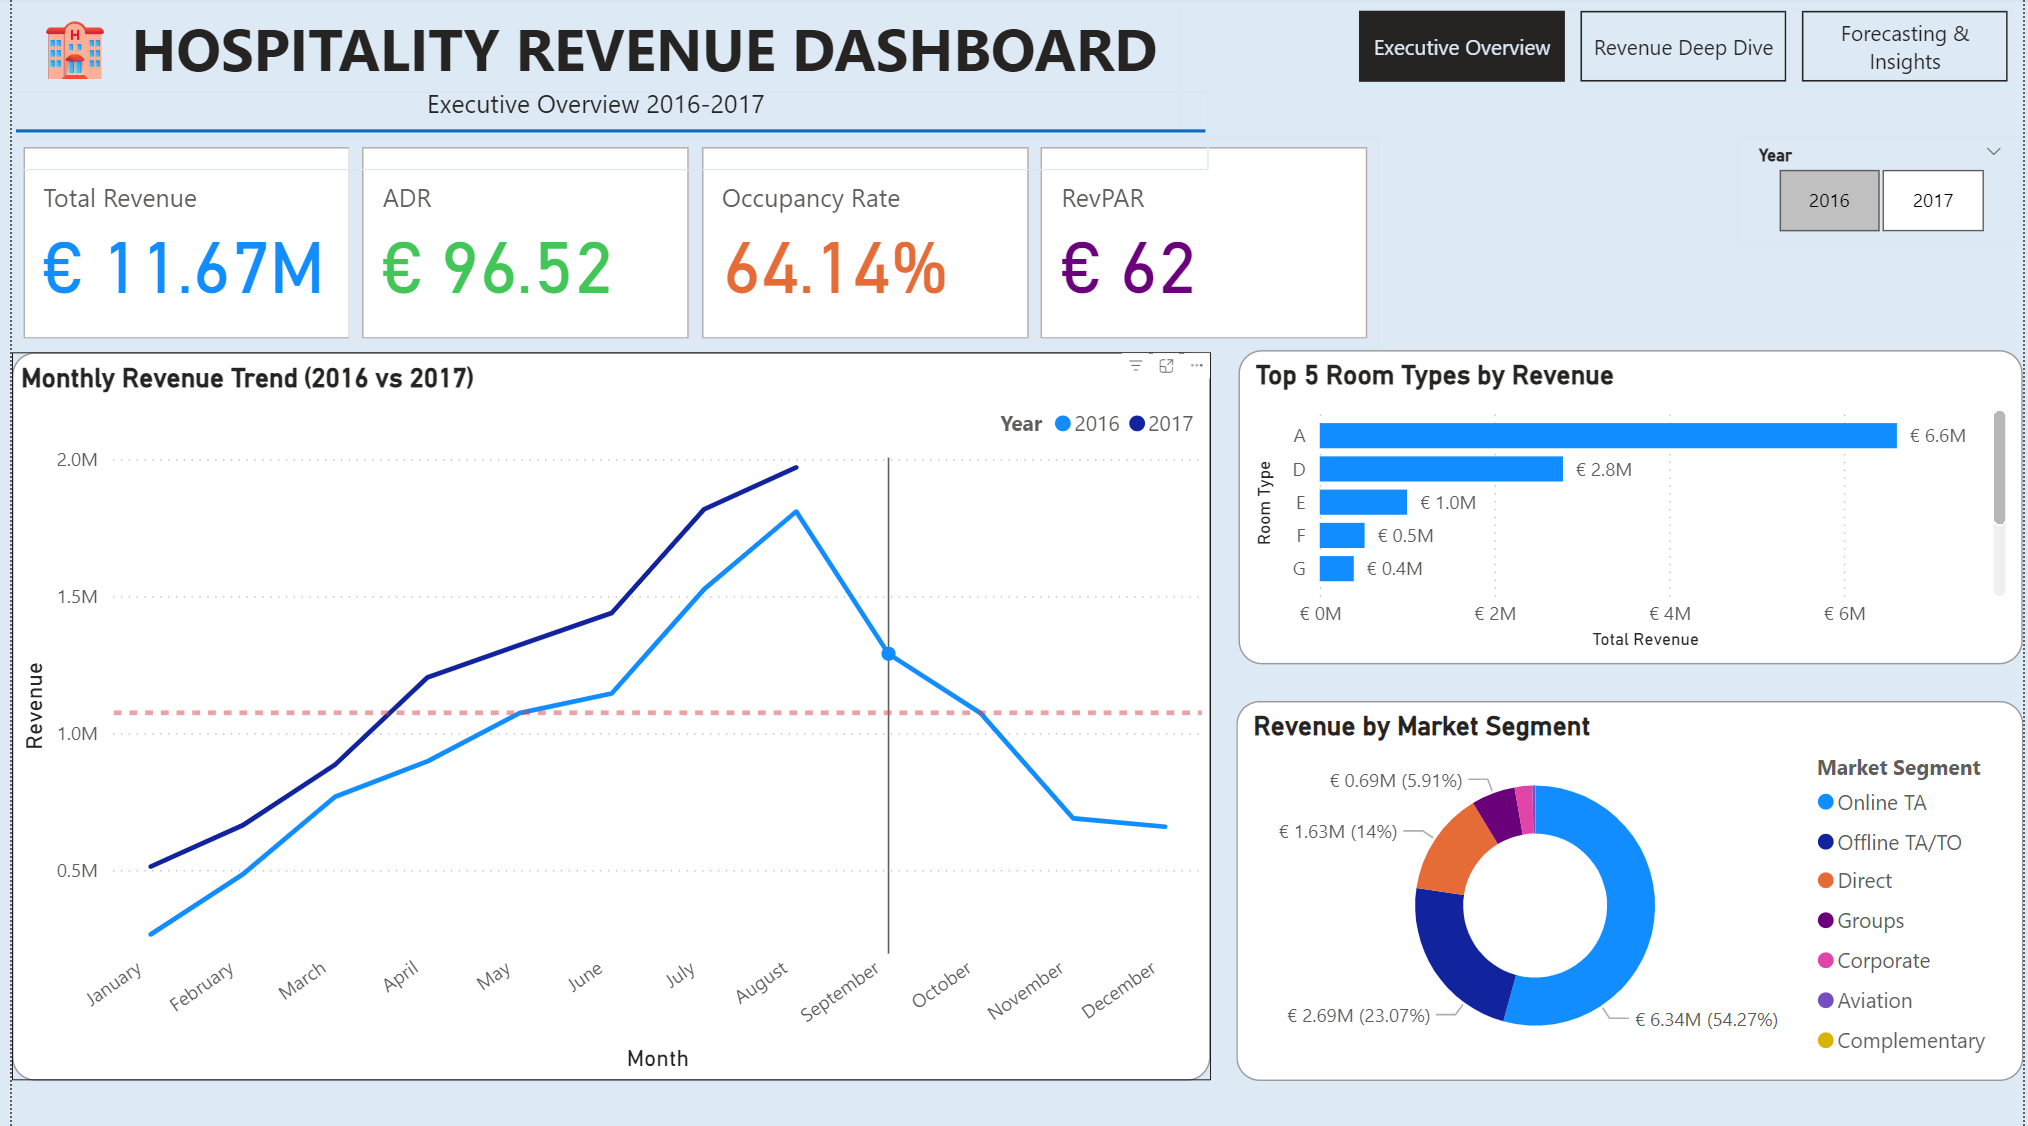

Layout of this report page (visuals, bound fields, positions):
{"tool":"powerbi","page":{"name":"Executive Overview","canvas":[1280,720],"ordinal":0},"visuals":[{"type":"textbox","box":[0,0,743.5,88.2],"z":0},{"type":"lineChart","title":"Monthly Revenue Trend (2016 vs 2017)","fields":{"Category":["powerbi_monthly.month_name"],"Y":["Sum(powerbi_monthly.revenue)","select"],"Series":["powerbi_monthly.year"]},"box":[0,226.1,763.1,463.4],"z":1000},{"type":"clusteredBarChart","title":"Top 5 Room Types by Revenue","fields":{"Category":["powerbi_rooms.room_type"],"Y":["_measures.Total Revenue"]},"box":[780.8,224.9,499.5,200.4],"z":2000},{"type":"donutChart","title":"Revenue by Market Segment","fields":{"Category":["powerbi_bookings.market_segment"],"Y":["_measures.Total Revenue"]},"box":[779.2,448,500.5,241.5],"z":3000},{"type":"slicer","fields":{"Values":["powerbi_bookings.year"]},"box":[1097.7,88.2,182,68.6],"z":4000},{"type":"cardVisual","fields":{"Data":["_measures.Total Revenue","_measures.ADR","_measures.Occupancy Rate","_measures.RevPAR"]},"box":[0,88.2,870.2,136.5],"z":5000},{"type":"pageNavigator","box":[855.5,7,417.2,49.7],"z":6000},{"type":"shape","box":[0.7,60.2,761,50.4],"z":7000}]}

Visuals, with their boxes in screenshot pixels (x1, y1, x2, y2), scaled from the page's 1280x720 canvas onto the 2028x1126 screenshot:
textbox: <region>0, 0, 1178, 138</region>
"Monthly Revenue Trend (2016 vs 2017)" lineChart: <region>0, 354, 1209, 1078</region>
"Top 5 Room Types by Revenue" clusteredBarChart: <region>1237, 352, 2027, 665</region>
"Revenue by Market Segment" donutChart: <region>1235, 701, 2027, 1078</region>
slicer - powerbi_bookings.year: <region>1739, 138, 2027, 245</region>
cardVisual - _measures.Total Revenue x _measures.ADR: <region>0, 138, 1379, 351</region>
pageNavigator: <region>1355, 11, 2016, 89</region>
shape: <region>1, 94, 1207, 173</region>
